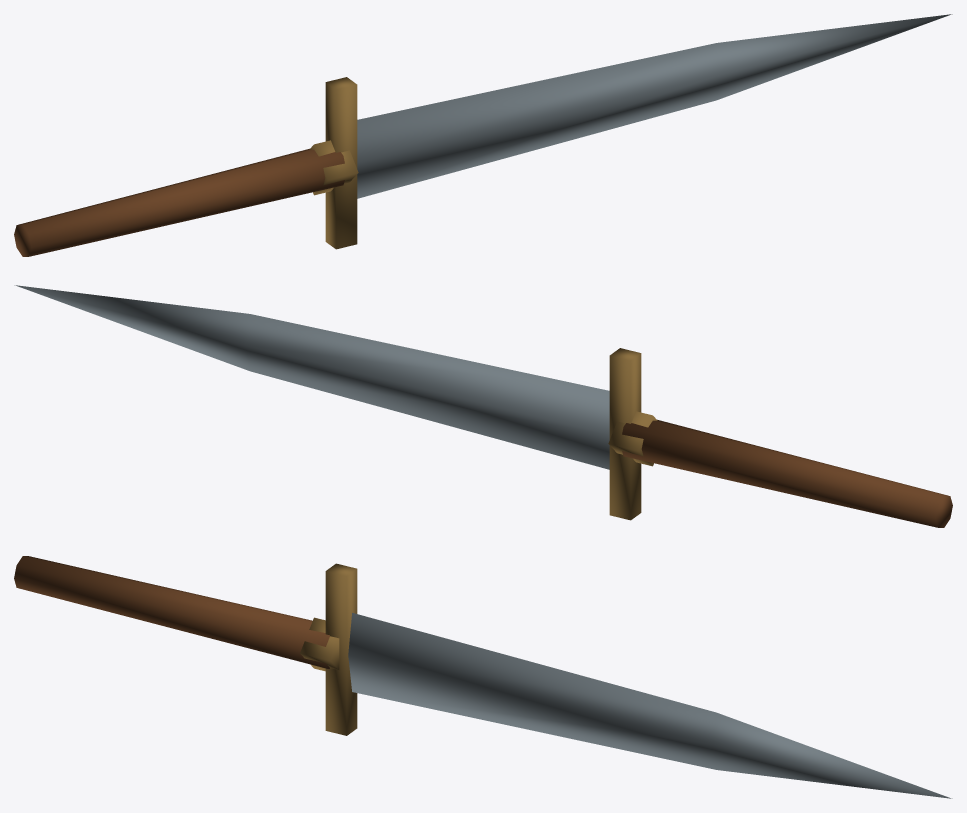
Rendered from plug_bayonet_lod0.glb.
The picture shows the model from 3 angles, top to bottom: view 1: azimuth 30°, elevation 25°; view 2: azimuth 150°, elevation 25°; view 3: azimuth 330°, elevation 25°; orthographic projection.
Parts seen in each view (by area): view 1: WeaponMesh.024; view 2: WeaponMesh.024; view 3: WeaponMesh.024.
Boxes of the visible parts, box(x1,y1,x2,y2) form: WeaponMesh.024: box(14, 14, 952, 256); WeaponMesh.024: box(14, 285, 952, 527); WeaponMesh.024: box(14, 556, 952, 798).
Bounding box in the file's own units: 0.61 × 0.1 × 0.032.
